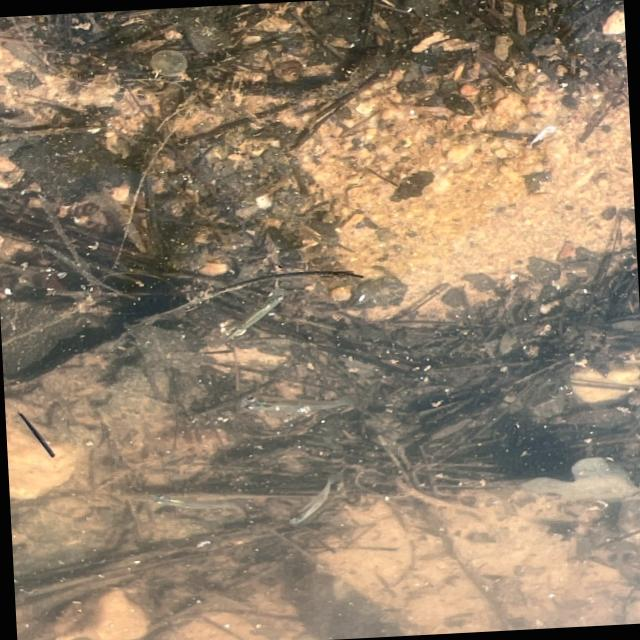Sivrisinek Baligi: (6, 403, 62, 462), (146, 486, 248, 516), (241, 391, 362, 413), (286, 480, 340, 524)
